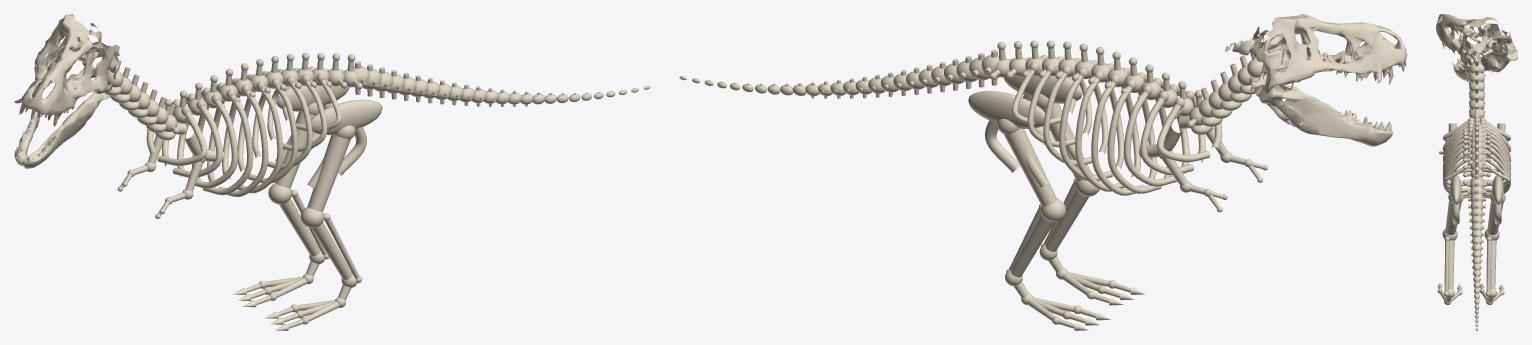
The model's file is assembly.glb.
The picture shows the model from 3 angles, left to right: view 1: azimuth 30°, elevation 25°; view 2: azimuth 150°, elevation 25°; view 3: azimuth 270°, elevation 25°; orthographic projection. The views are drawn at different scales.
Parts seen in each view (by area): view 1: bone-103, bone-27, bone-14, bone-0, bone-13, bone-80, bone-82, bone-15, bone-1, bone-84, bone-78, bone-86 (+6 smaller); view 2: bone-103, bone-13, bone-0, bone-27, bone-79, bone-1, bone-81, bone-15, bone-77, bone-83, bone-14, bone-85 (+5 smaller); view 3: bone-103, bone-13, bone-27, bone-0, bone-14, bone-1, bone-15, bone-2, bone-16, bone-77, bone-78, bone-87 (+42 smaller).
Part boxes in pixels (<box>): bone-103: <box>14,14,119,168</box>; bone-27: <box>307,99,382,188</box>; bone-14: <box>300,125,355,227</box>; bone-0: <box>268,102,323,204</box>; bone-13: <box>275,85,349,164</box>; bone-80: <box>203,89,253,195</box>; bone-82: <box>218,84,268,196</box>; bone-15: <box>311,222,357,287</box>; bone-1: <box>279,198,324,264</box>; bone-84: <box>237,81,283,193</box>; bone-78: <box>195,94,237,188</box>; bone-86: <box>248,78,297,183</box>; bone-103: <box>1225,14,1407,146</box>; bone-13: <box>968,91,1048,187</box>; bone-0: <box>997,119,1065,222</box>; bone-27: <box>1004,75,1083,160</box>; bone-79: <box>1107,79,1161,193</box>; bone-1: <box>1005,215,1054,285</box>; bone-81: <box>1091,74,1144,195</box>; bone-15: <box>1039,190,1088,260</box>; bone-77: <box>1123,85,1177,186</box>; bone-83: <box>1075,70,1124,191</box>; bone-14: <box>1032,93,1100,196</box>; bone-85: <box>1059,67,1112,180</box>; bone-103: <box>1436,14,1517,81</box>; bone-13: <box>1492,175,1503,224</box>; bone-27: <box>1450,175,1461,224</box>; bone-0: <box>1484,192,1505,240</box>; bone-14: <box>1442,192,1463,240</box>; bone-1: <box>1488,240,1496,298</box>; bone-15: <box>1446,240,1454,298</box>; bone-2: <box>1485,236,1491,296</box>; bone-16: <box>1443,236,1449,296</box>; bone-77: <box>1480,124,1511,172</box>; bone-78: <box>1442,124,1473,172</box>; bone-87: <box>1481,148,1510,196</box>.
Bounding box in the file's own units: 10.03 × 4.84 × 1.68.
